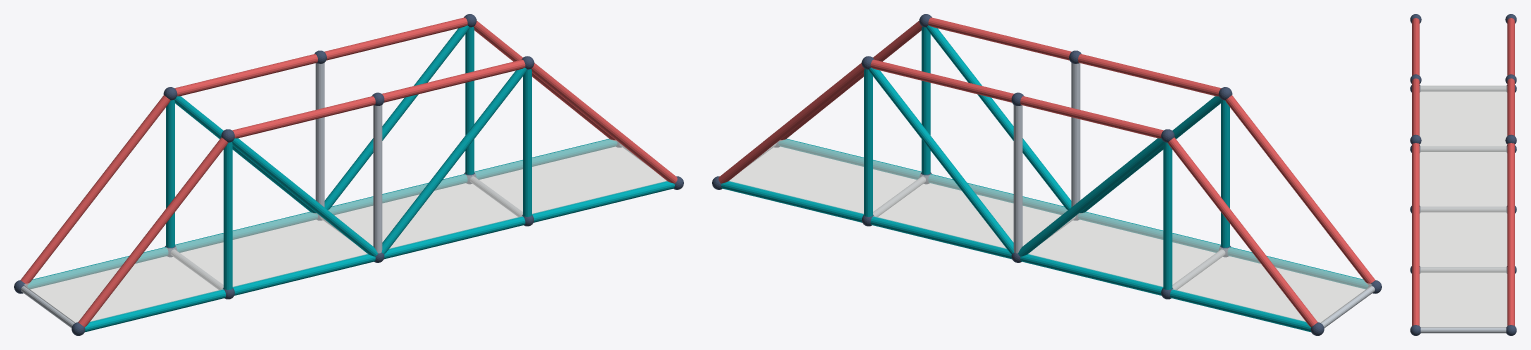
File: ar-bab10-rangka.glb
3 views of the same model, side by side, from view 1: azimuth 30°, elevation 25°; view 2: azimuth 150°, elevation 25°; view 3: azimuth 270°, elevation 25° (orthographic). The views are drawn at different scales.
Parts seen in each view (by area): view 1: geometry_47, geometry_27, geometry_6, geometry_33, geometry_12, geometry_28, geometry_32, geometry_30, geometry_29, geometry_4, geometry_25, geometry_26 (+15 smaller); view 2: geometry_47, geometry_6, geometry_27, geometry_12, geometry_33, geometry_7, geometry_11, geometry_9, geometry_8, geometry_4, geometry_25, geometry_5 (+15 smaller); view 3: geometry_47, geometry_7, geometry_28, geometry_46, geometry_42, geometry_43, geometry_45, geometry_4, geometry_5, geometry_25, geometry_26, geometry_44 (+2 smaller).
Part boxes in pixels (bbox=[...]): geometry_47: bbox=[24, 139, 666, 322]; geometry_27: bbox=[78, 137, 228, 327]; geometry_6: bbox=[20, 95, 170, 284]; geometry_33: bbox=[381, 67, 527, 254]; geometry_12: bbox=[324, 25, 469, 210]; geometry_28: bbox=[531, 63, 677, 183]; geometry_32: bbox=[232, 138, 377, 256]; geometry_30: bbox=[373, 105, 382, 253]; geometry_29: bbox=[223, 142, 232, 289]; geometry_4: bbox=[174, 54, 317, 96]; geometry_25: bbox=[232, 96, 375, 138]; geometry_26: bbox=[382, 59, 525, 102]; geometry_47: bbox=[729, 139, 1371, 322]; geometry_6: bbox=[1167, 137, 1317, 327]; geometry_27: bbox=[1225, 95, 1375, 284]; geometry_12: bbox=[868, 67, 1014, 254]; geometry_33: bbox=[926, 25, 1071, 210]; geometry_7: bbox=[718, 63, 864, 183]; geometry_11: bbox=[1018, 138, 1163, 256]; geometry_9: bbox=[1013, 105, 1022, 253]; geometry_8: bbox=[1163, 142, 1172, 289]; geometry_4: bbox=[1020, 96, 1163, 138]; geometry_25: bbox=[1078, 54, 1221, 96]; geometry_5: bbox=[870, 59, 1013, 102]; geometry_47: bbox=[1419, 85, 1507, 327]; geometry_7: bbox=[1507, 143, 1514, 325]; geometry_28: bbox=[1412, 143, 1419, 325]; geometry_46: bbox=[1420, 327, 1506, 333]; geometry_42: bbox=[1421, 86, 1505, 91]; geometry_43: bbox=[1421, 146, 1505, 151]; geometry_45: bbox=[1421, 267, 1505, 272]; geometry_4: bbox=[1507, 18, 1514, 75]; geometry_5: bbox=[1507, 78, 1514, 135]; geometry_25: bbox=[1412, 18, 1419, 75]; geometry_26: bbox=[1412, 78, 1419, 135]; geometry_44: bbox=[1421, 207, 1505, 211].
Bounding box in the file's own units: 12.24 × 3.24 × 2.24.
